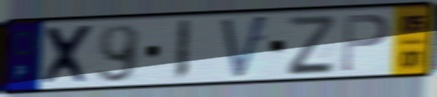9: (94, 22, 146, 84)
I: (172, 18, 194, 83)
P: (339, 12, 392, 74)
V: (218, 12, 271, 82)
X: (40, 22, 98, 88)
Z: (285, 13, 337, 77)
